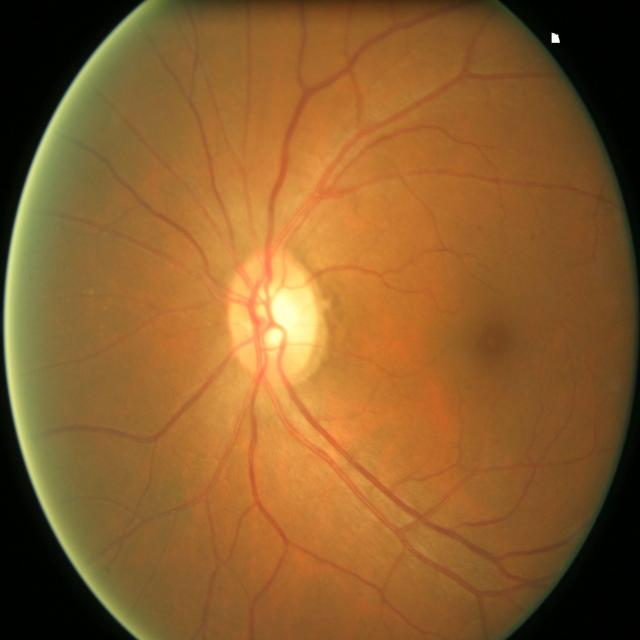OC: (249, 285, 304, 349)
OD: (225, 253, 322, 383)
